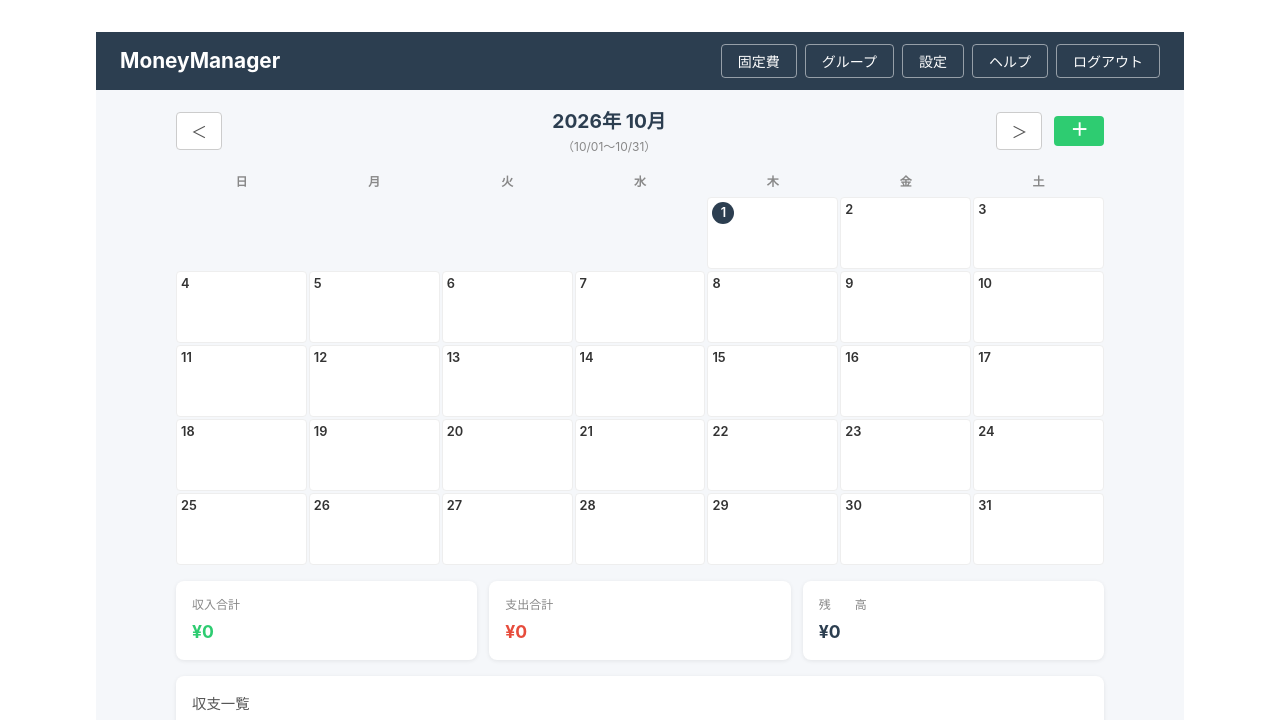
Test: CalendarView › ヘルプボタンを押すとヘルプモーダルが開く
Click the button "ヘルプ".
click(1010, 61)  # box [972,44,1048,78]
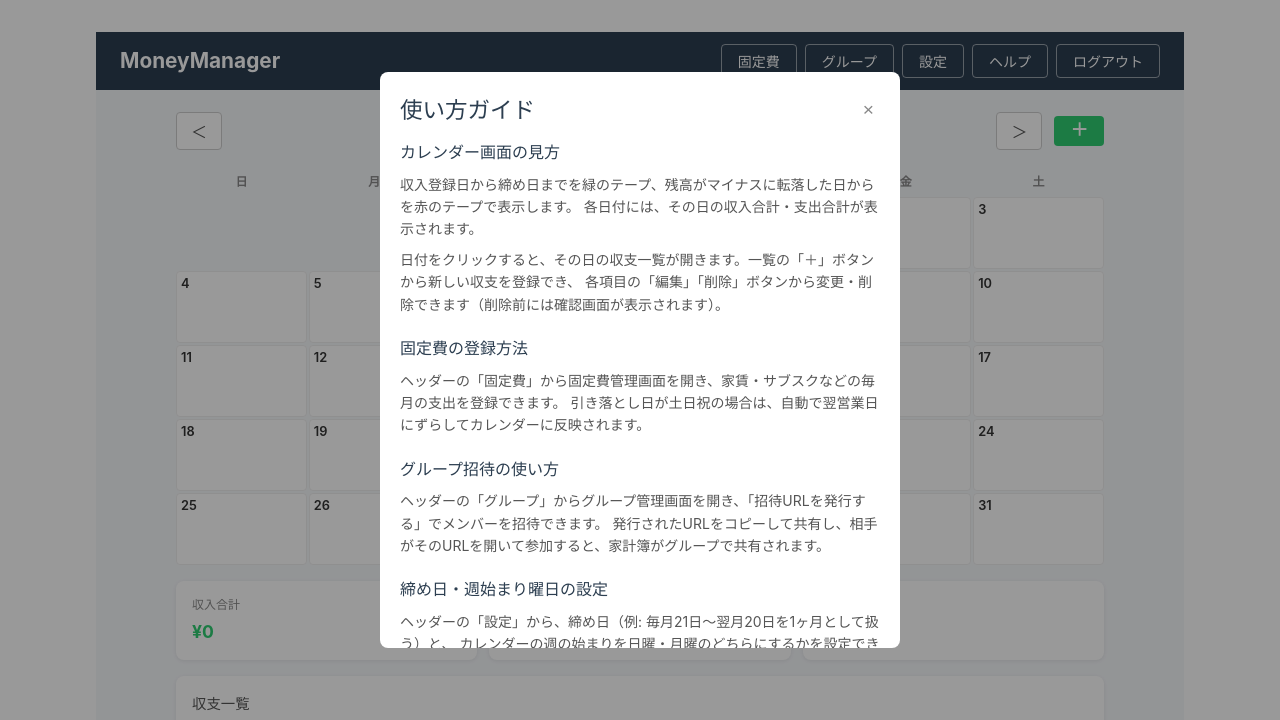
Expected: the element that starts with "使い方ガイド" is shown
